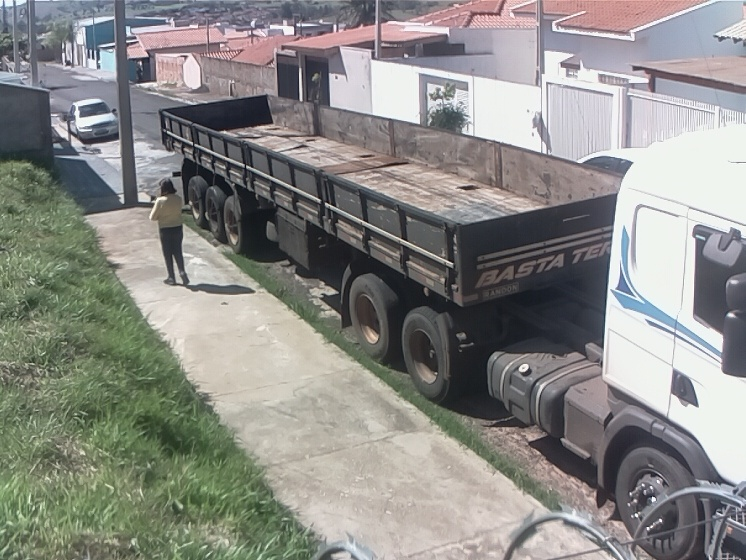person: (149, 177, 196, 291)
